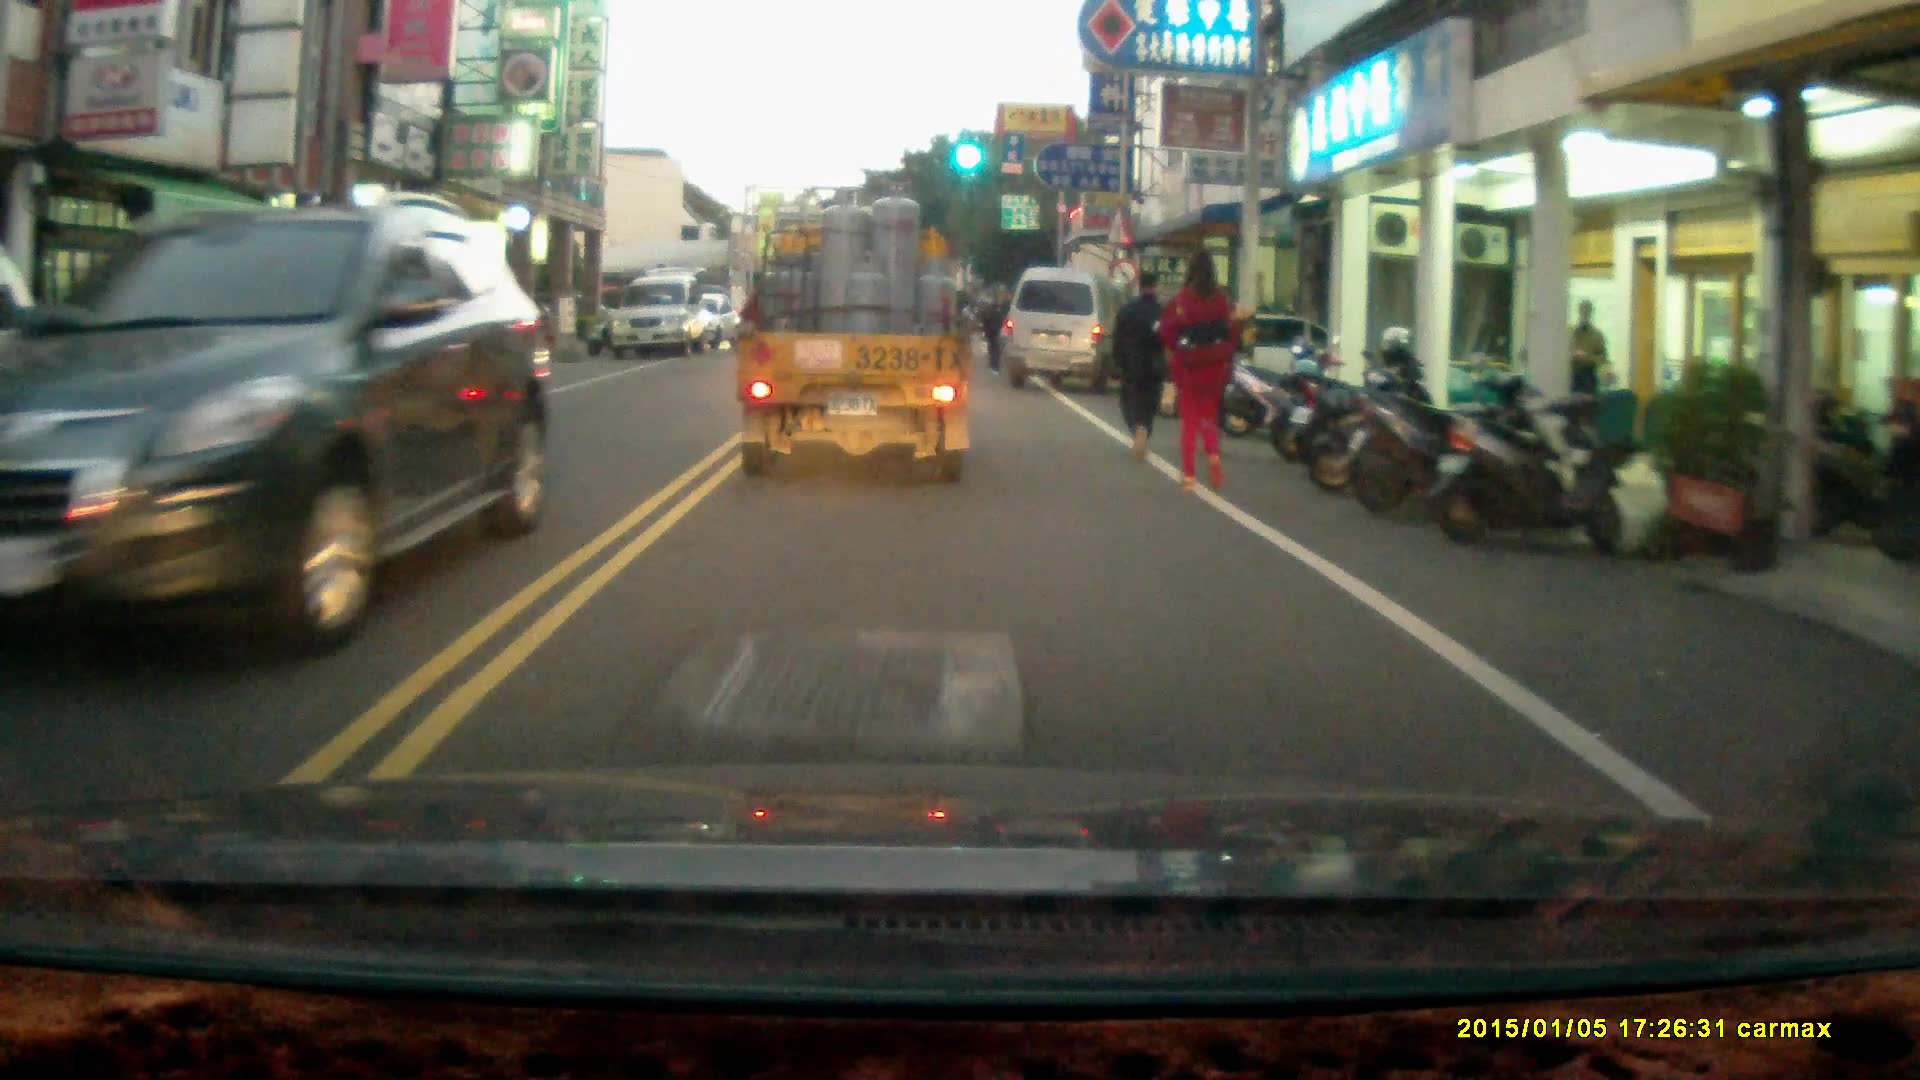pedestrian: (1162, 246, 1242, 498), (1104, 268, 1178, 464), (1565, 296, 1610, 443), (980, 288, 1013, 370)
vehicle: (1, 190, 566, 651), (733, 183, 984, 491), (208, 290, 474, 403), (1008, 268, 1137, 396), (609, 276, 717, 361)
